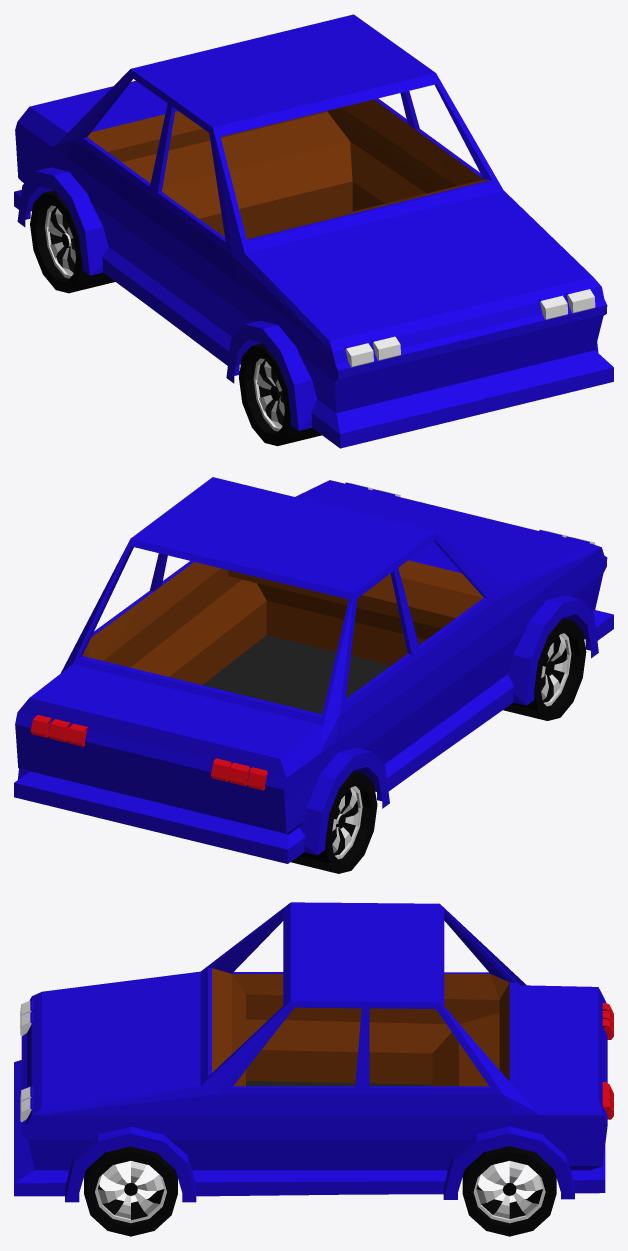
File: SafeDriver_Exterior_v1.fbx
3 renders of one model, top to bottom at view 1: azimuth 30°, elevation 25°; view 2: azimuth 150°, elevation 25°; view 3: azimuth 270°, elevation 25°, orthographic. The views are drawn at different scales.
Visible parts, largest first — view 1: Body, Wheel_FrontLeft, Wheel_RearLeft; view 2: Body, Wheel_FrontLeft, Wheel_RearLeft; view 3: Body, Wheel_FrontRight, Wheel_RearRight.
Part boxes in pixels (left/top/right/bottom): Body: left=14, top=14, right=613, bottom=448; Wheel_FrontLeft: left=30, top=190, right=115, bottom=293; Wheel_RearLeft: left=239, top=343, right=321, bottom=446; Body: left=14, top=477, right=613, bottom=863; Wheel_FrontLeft: left=291, top=771, right=377, bottom=873; Wheel_RearLeft: left=503, top=618, right=586, bottom=720; Body: left=14, top=902, right=613, bottom=1202; Wheel_FrontRight: left=462, top=1146, right=556, bottom=1236; Wheel_RearRight: left=84, top=1146, right=177, bottom=1236.
Size of the model in its own units: 2.19 by 1.69 by 4.19.
